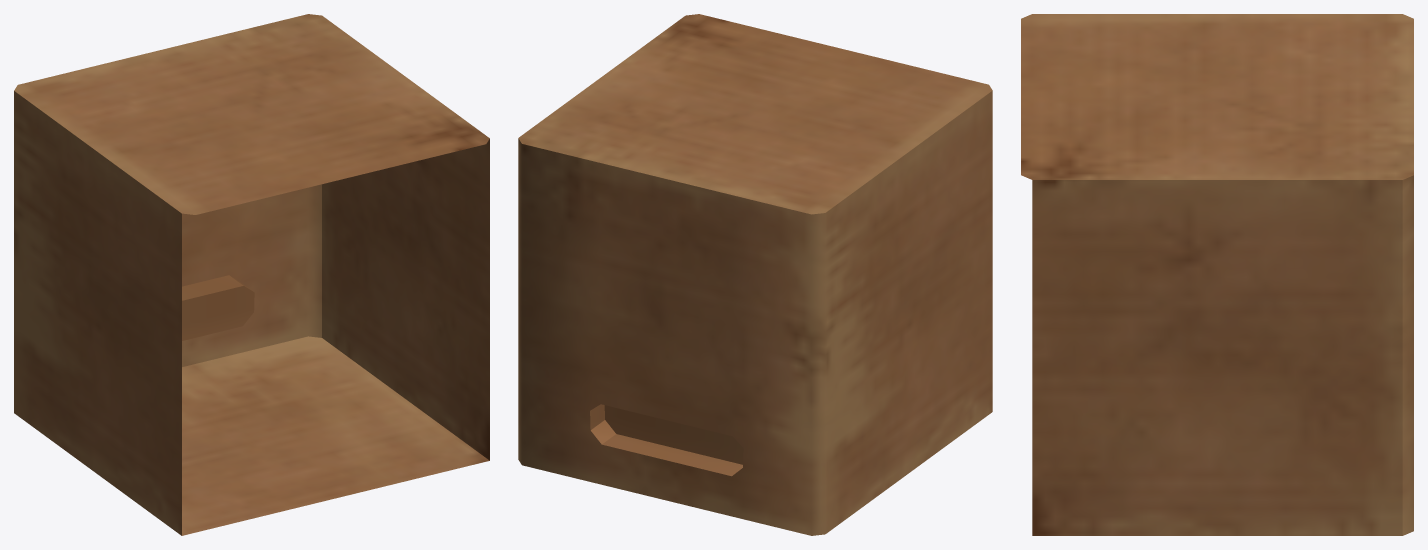
Rendered from SM_Box_Rangement.fbx.
The picture shows the model from 3 angles, left to right: view 1: azimuth 30°, elevation 25°; view 2: azimuth 150°, elevation 25°; view 3: azimuth 270°, elevation 25°; orthographic projection. The views are drawn at different scales.
Parts seen in each view (by area): view 1: Box_FLRB; view 2: Box_FLRB; view 3: Box_FLRB.
Part boxes in pixels (bbox=[...]): Box_FLRB: bbox=[14, 14, 489, 535]; Box_FLRB: bbox=[518, 14, 992, 535]; Box_FLRB: bbox=[1021, 14, 1413, 535].
Bounding box in the file's own units: 60 × 60 × 60.
Materials: 1 (1 with a texture image).
